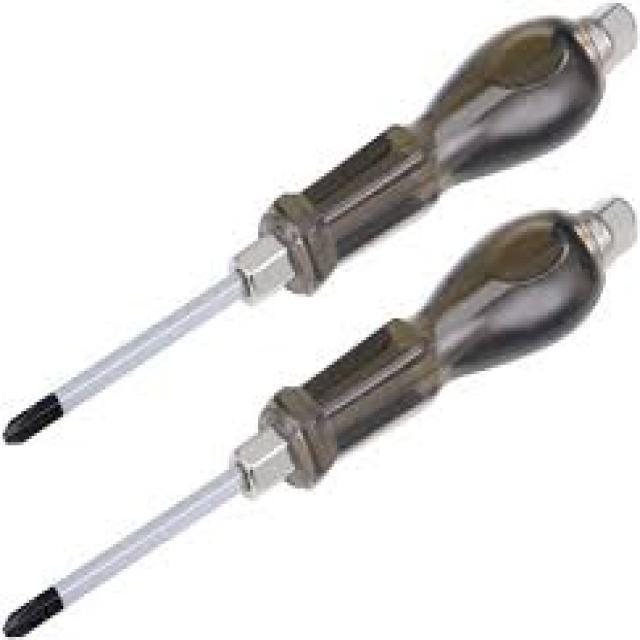screwdriver: (0, 0, 640, 448), (0, 195, 640, 640)
